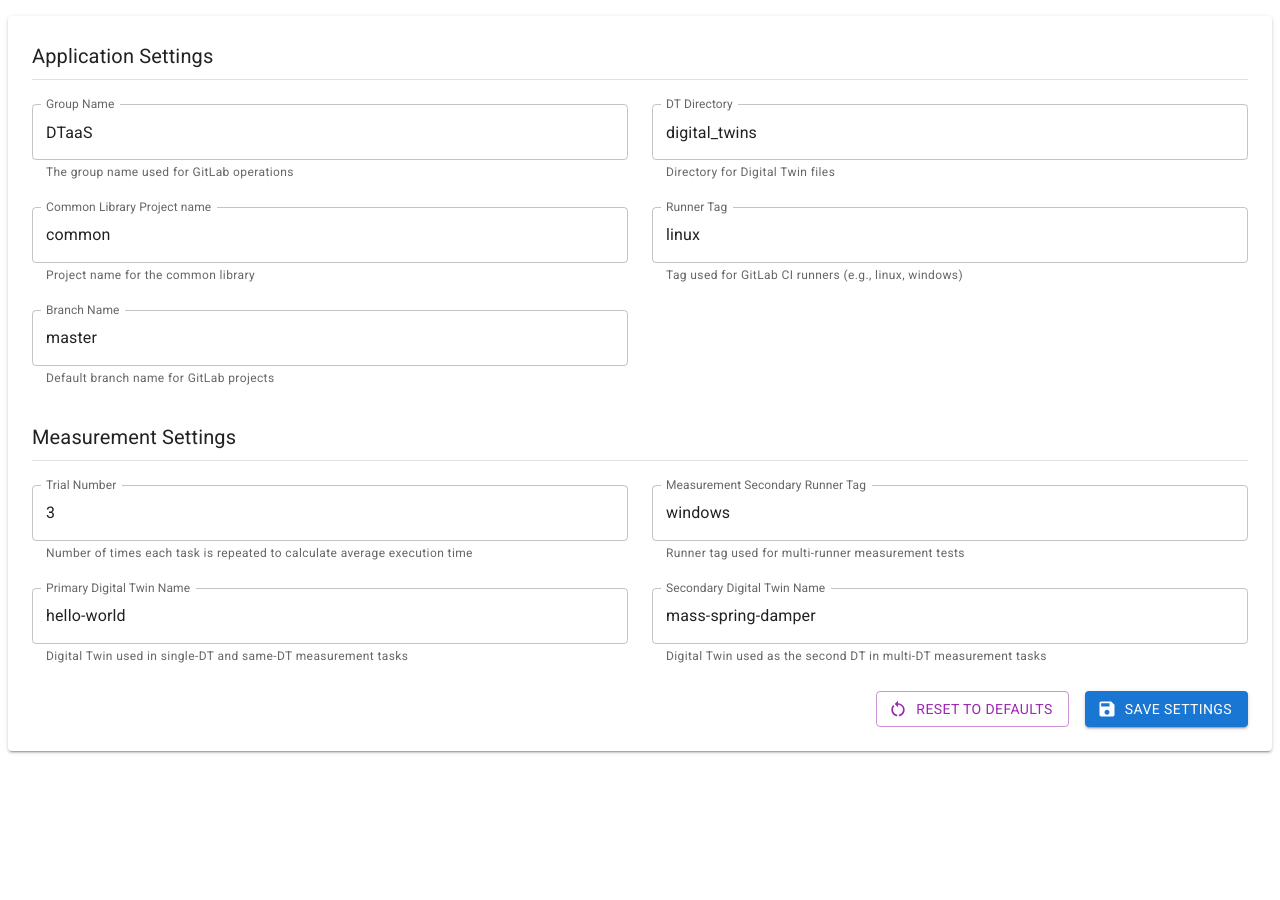
Scenario: SettingsForm › shows error when required field is empty
This screenshot has width=1280, height=900.
Clear the field labelled "Group Name" at (330, 132), box [32,104,628,160]
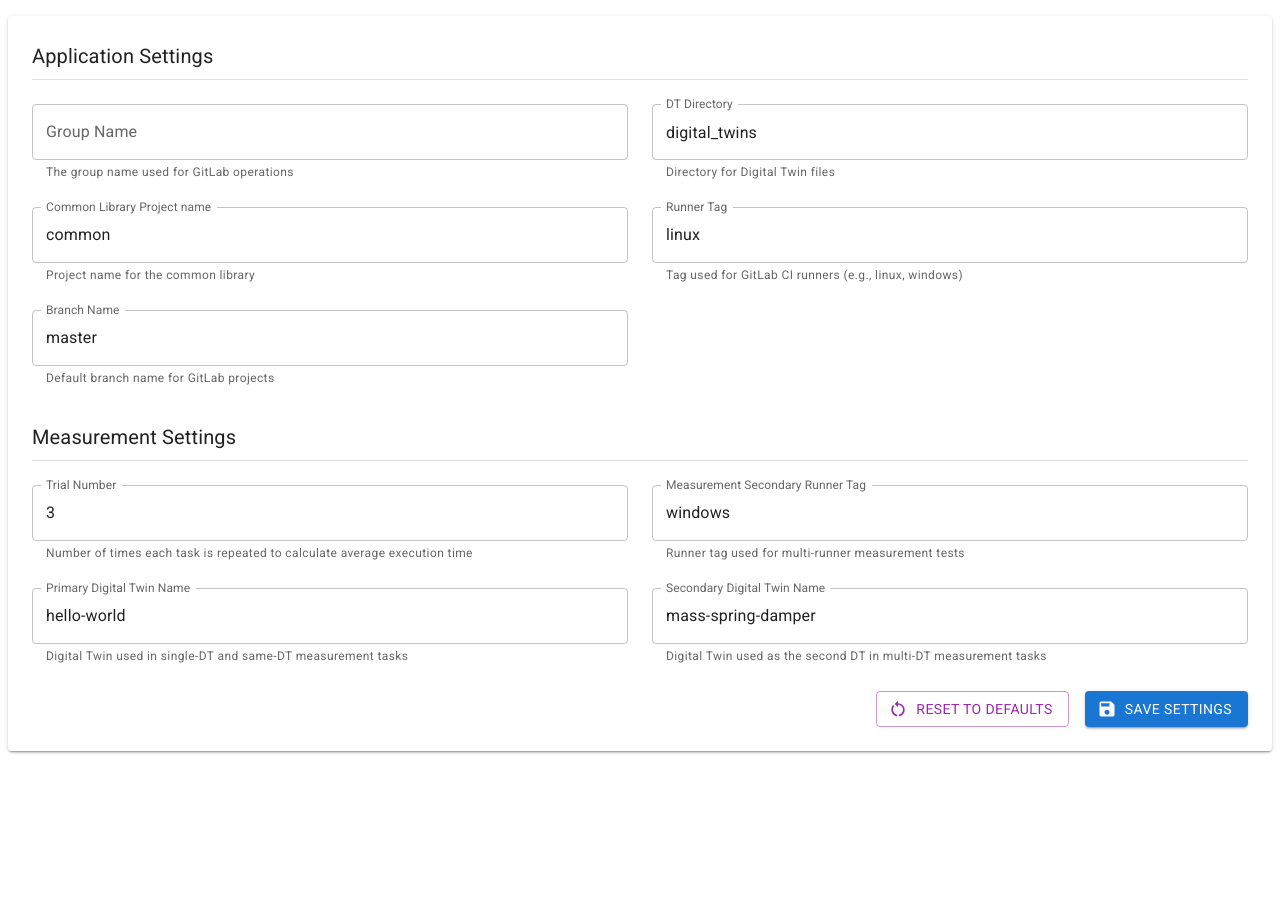
Click the button "Save Settings".
click(1166, 709)  # box [1085,690,1248,727]
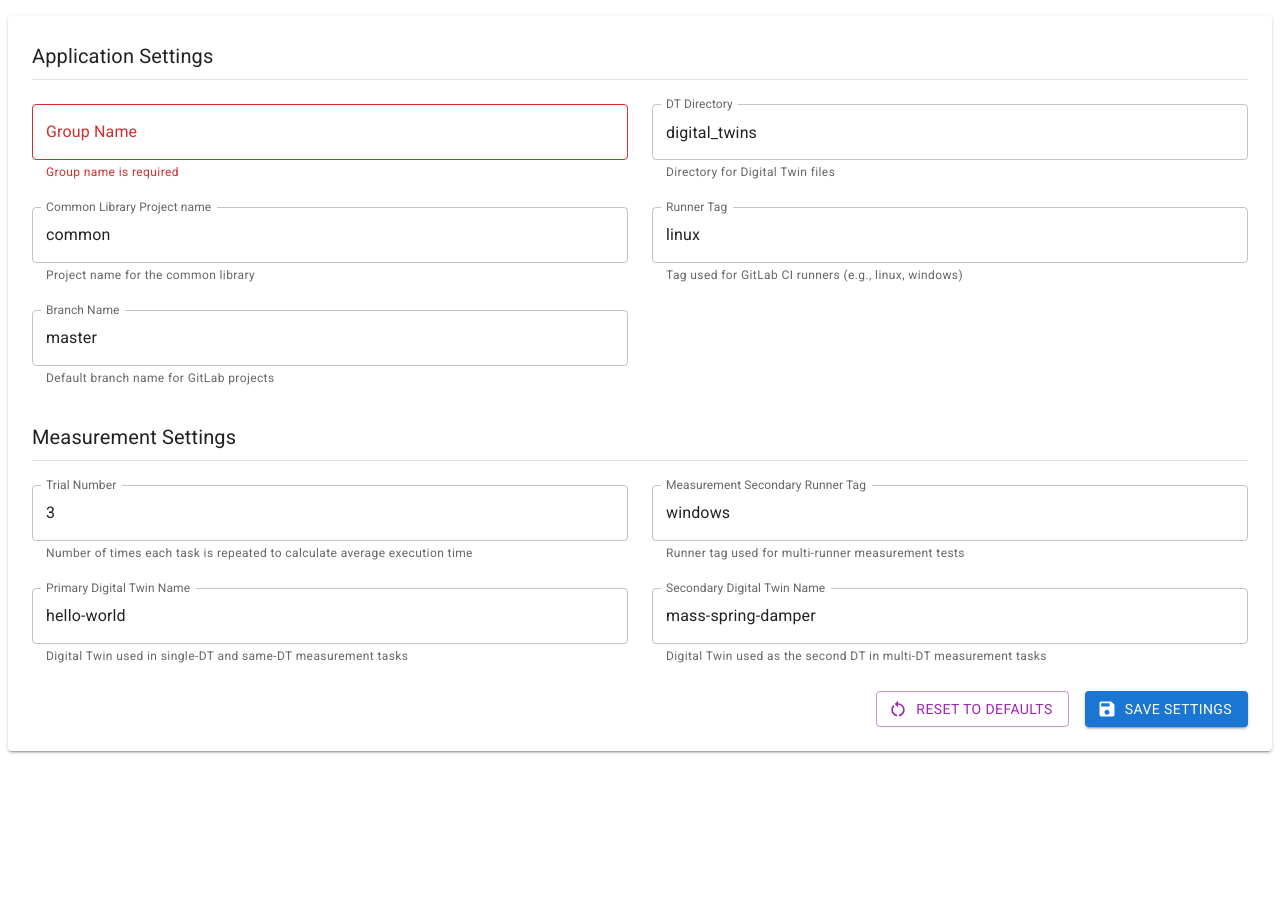
Expected: the text "Group name is required" is shown, [46,165,179,179]
